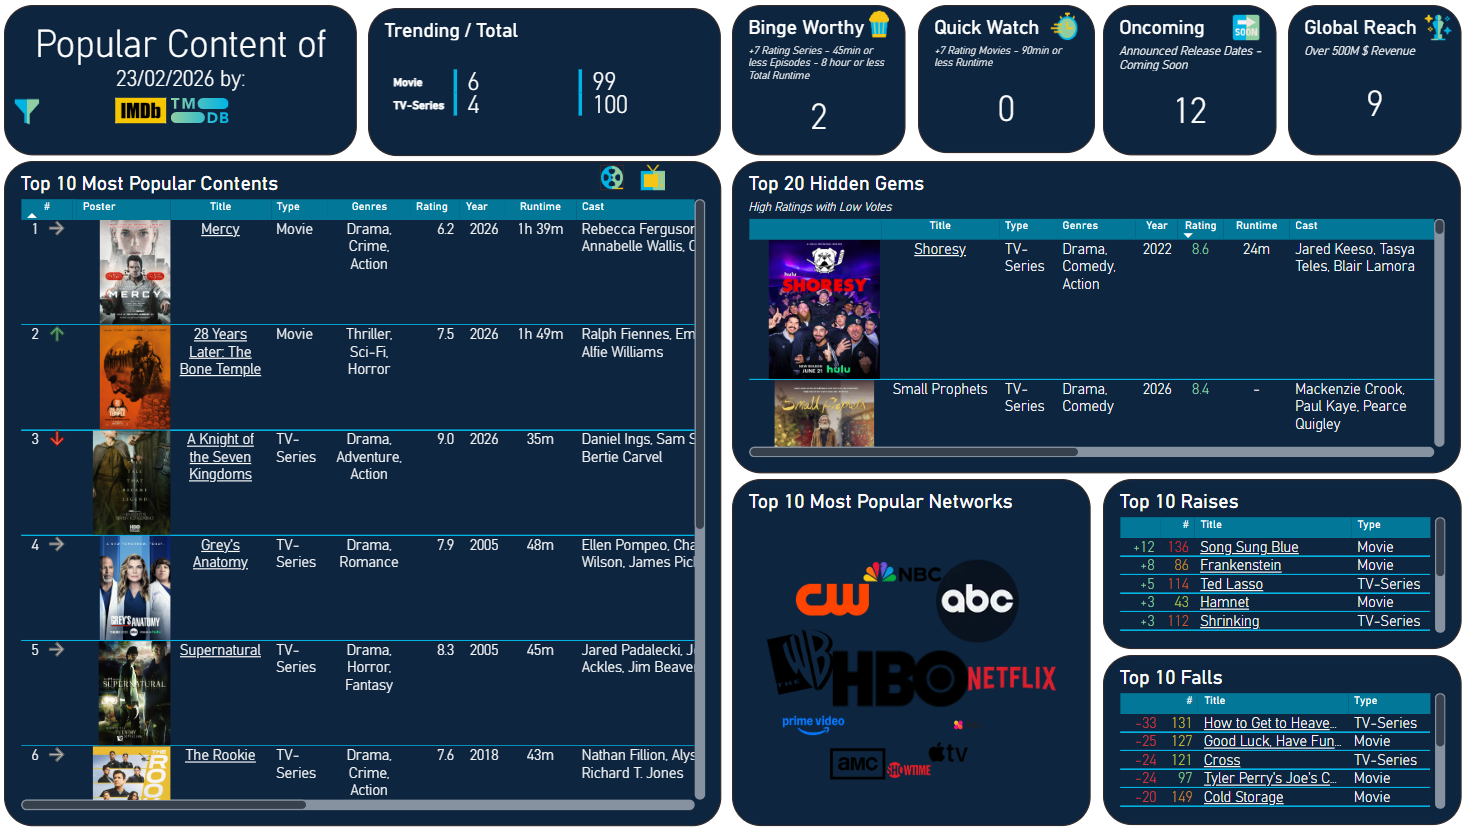

Layout of this report page (visuals, bound fields, positions):
{"tool":"powerbi","page":{"name":"Landing Page","canvas":[1280,720],"ordinal":0},"visuals":[{"type":"textbox","title":"Title","box":[10,5,305,130],"z":0,"group":"g6"},{"type":"card","title":"Binge Worthy","fields":{"Values":["dim_content.M_BingeWorthy"]},"box":[640,5,150,130],"z":0,"group":"g4"},{"type":"card","title":"Quick Watch","fields":{"Values":["dim_content.M_QuickWatch"]},"box":[800,5,152.6,127.7],"z":0,"group":"g3"},{"type":"card","title":"Oncoming","fields":{"Values":["dim_content.M_OnComing"]},"box":[960,5,150,130],"z":0,"group":"g2"},{"type":"card","title":"Global Reach","fields":{"Values":["dim_content.M_GlobalReach"]},"box":[1120,5,150,130],"z":0,"group":"g1"},{"type":"cardVisual","title":"Trending / Total","fields":{"Data":["dim_content.M_Content_Trending","dim_content.M_TotalContent"],"Rows":["dim_content.TypeDisplay"]},"box":[325,8,305,128],"z":0,"group":"g5"},{"type":"tableEx","title":"Top 10 Falls","fields":{"Values":["Key Measures.M_Display_RankChangeToday","Key Measures.M_Rank Today","dim_content.primary_title","dim_content.TypeDisplay","Key Measures.M_RankChangeToday"]},"box":[960,567,310,147],"z":0},{"type":"image","title":"iconBingeWatch","box":[750.6,5,32.8,32.6],"z":1000,"group":"g4"},{"type":"image","title":"iconQuickWatch","box":[909.6,5,33.3,37.1],"z":1000,"group":"g3"},{"type":"image","title":"iconOncomingNonSel","box":[1067.3,8.5,33.3,32],"z":1000,"group":"g2"},{"type":"image","title":"iconGlobalReachNonSel","box":[1233.5,8.5,33.3,32],"z":1000,"group":"g1"},{"type":"image","title":"iconTv","box":[584.2,77,30.5,32],"z":1000,"group":"g5"},{"type":"tableEx","title":"Top 10 Raises","fields":{"Values":["Key Measures.M_RankChangeToday","Key Measures.M_Display_RankChangeToday","Key Measures.M_Rank Today","dim_content.primary_title","dim_content.TypeDisplay"]},"box":[960,415,310,147],"z":1000},{"type":"image","title":"iconMovie","box":[584.2,53,30.5,32],"z":2000,"group":"g5"},{"type":"image","title":"iconFilterNonSel","box":[14.6,80,31.1,34],"z":2000,"group":"g6"},{"type":"ImageGrid_FC5183B9_926C_45E0_B5F7_0CE9EAF1DA9B","title":"Top 10 Most Popular Networks","fields":{"ImageURLHQ":["dim_network.Poster"],"Value":["Sum(fact_popularity.Popularity)"]},"box":[640,415,310,300],"z":2000},{"type":"image","title":"logoTMDB","box":[149.3,80,60.1,32],"z":3000,"group":"g6"},{"type":"pivotTable","title":"Top 20 Hidden Gems","fields":{"Rows":["dim_content.Title"],"Values":["Min(dim_content.Poster)","Min(dim_content.TypeDisplay)","Min(dim_content.Genres)","Sum(dim_content.Score)","Min(dim_content.Runtime_HM_col)","Min(dim_content.Tagline)"]},"box":[640,140,630,270],"z":3000},{"type":"image","title":"logoIMDB","box":[98.3,80,60.1,32],"z":4000,"group":"g6"},{"type":"tableEx","title":"Top 10 Most Popular Contents","fields":{"Values":["fact_popularity.Rank Today","Key Measures.M_Display_RankChangeToday","dim_content.content_poster","dim_content.primary_title","dim_content.GenreList","dim_content.TypeDisplay","dim_content.Score","dim_content.NetworksDisplay","dim_content.TrailerDisplay","dim_content.Release Date.Variation.Date Hierarchy.Year","dim_content.Tagline","dim_content.Language"]},"box":[10,140,620,575],"z":4000},{"type":"group","id":"g1","title":"GlobalReach","box":[1120,5,150,130],"z":5000},{"type":"group","id":"g2","title":"Oncoming","box":[960,5,150,130],"z":6000},{"type":"group","id":"g3","title":"Quick Watch","box":[800,5,150,130],"z":7000},{"type":"group","id":"g4","title":"Binge Watch","box":[640,5,150,130],"z":8000},{"type":"group","id":"g5","title":"Trending","box":[325,8,305,128],"z":9000},{"type":"group","id":"g6","title":"Title","box":[10,5,305,130],"z":10000}]}

Visuals, with their boxes in screenshot pixels (x1, y1, x2, y2), scaled from the page's 1280x720 canvas onto the 1467x827 screenshot:
"Title" textbox: {"x1": 11, "y1": 6, "x2": 361, "y2": 155}
"Binge Worthy" card: {"x1": 734, "y1": 6, "x2": 905, "y2": 155}
"Quick Watch" card: {"x1": 917, "y1": 6, "x2": 1092, "y2": 152}
"Oncoming" card: {"x1": 1100, "y1": 6, "x2": 1272, "y2": 155}
"Global Reach" card: {"x1": 1284, "y1": 6, "x2": 1456, "y2": 155}
"Trending / Total" cardVisual: {"x1": 372, "y1": 9, "x2": 722, "y2": 156}
"Top 10 Falls" tableEx: {"x1": 1100, "y1": 651, "x2": 1456, "y2": 820}
"iconBingeWatch" image: {"x1": 860, "y1": 6, "x2": 898, "y2": 43}
"iconQuickWatch" image: {"x1": 1042, "y1": 6, "x2": 1081, "y2": 48}
"iconOncomingNonSel" image: {"x1": 1223, "y1": 10, "x2": 1261, "y2": 47}
"iconGlobalReachNonSel" image: {"x1": 1414, "y1": 10, "x2": 1452, "y2": 47}
"iconTv" image: {"x1": 670, "y1": 88, "x2": 705, "y2": 125}
"Top 10 Raises" tableEx: {"x1": 1100, "y1": 477, "x2": 1456, "y2": 646}
"iconMovie" image: {"x1": 670, "y1": 61, "x2": 705, "y2": 98}
"iconFilterNonSel" image: {"x1": 17, "y1": 92, "x2": 52, "y2": 131}
"Top 10 Most Popular Networks" ImageGrid_FC5183B9_926C_45E0_B5F7_0CE9EAF1DA9B: {"x1": 734, "y1": 477, "x2": 1089, "y2": 821}
"logoTMDB" image: {"x1": 171, "y1": 92, "x2": 240, "y2": 129}
"Top 20 Hidden Gems" pivotTable: {"x1": 734, "y1": 161, "x2": 1456, "y2": 471}
"logoIMDB" image: {"x1": 113, "y1": 92, "x2": 182, "y2": 129}
"Top 10 Most Popular Contents" tableEx: {"x1": 11, "y1": 161, "x2": 722, "y2": 821}
"GlobalReach" group: {"x1": 1284, "y1": 6, "x2": 1456, "y2": 155}
"Oncoming" group: {"x1": 1100, "y1": 6, "x2": 1272, "y2": 155}
"Quick Watch" group: {"x1": 917, "y1": 6, "x2": 1089, "y2": 155}
"Binge Watch" group: {"x1": 734, "y1": 6, "x2": 905, "y2": 155}
"Trending" group: {"x1": 372, "y1": 9, "x2": 722, "y2": 156}
"Title" group: {"x1": 11, "y1": 6, "x2": 361, "y2": 155}
